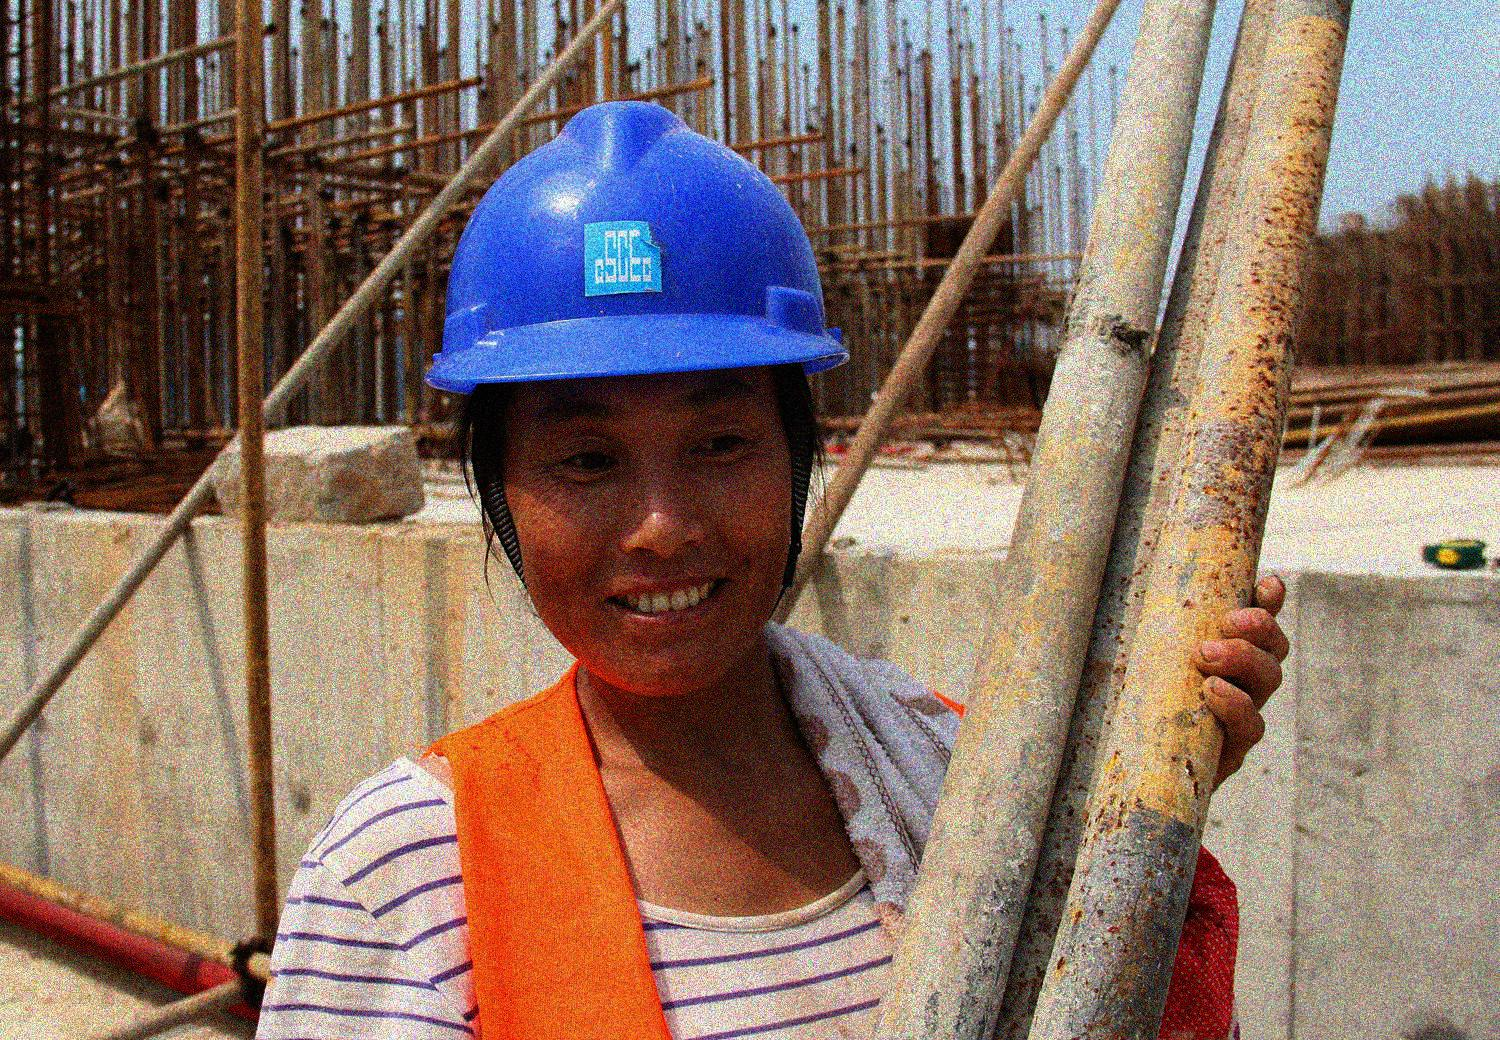helmet: (429, 99, 856, 693)
